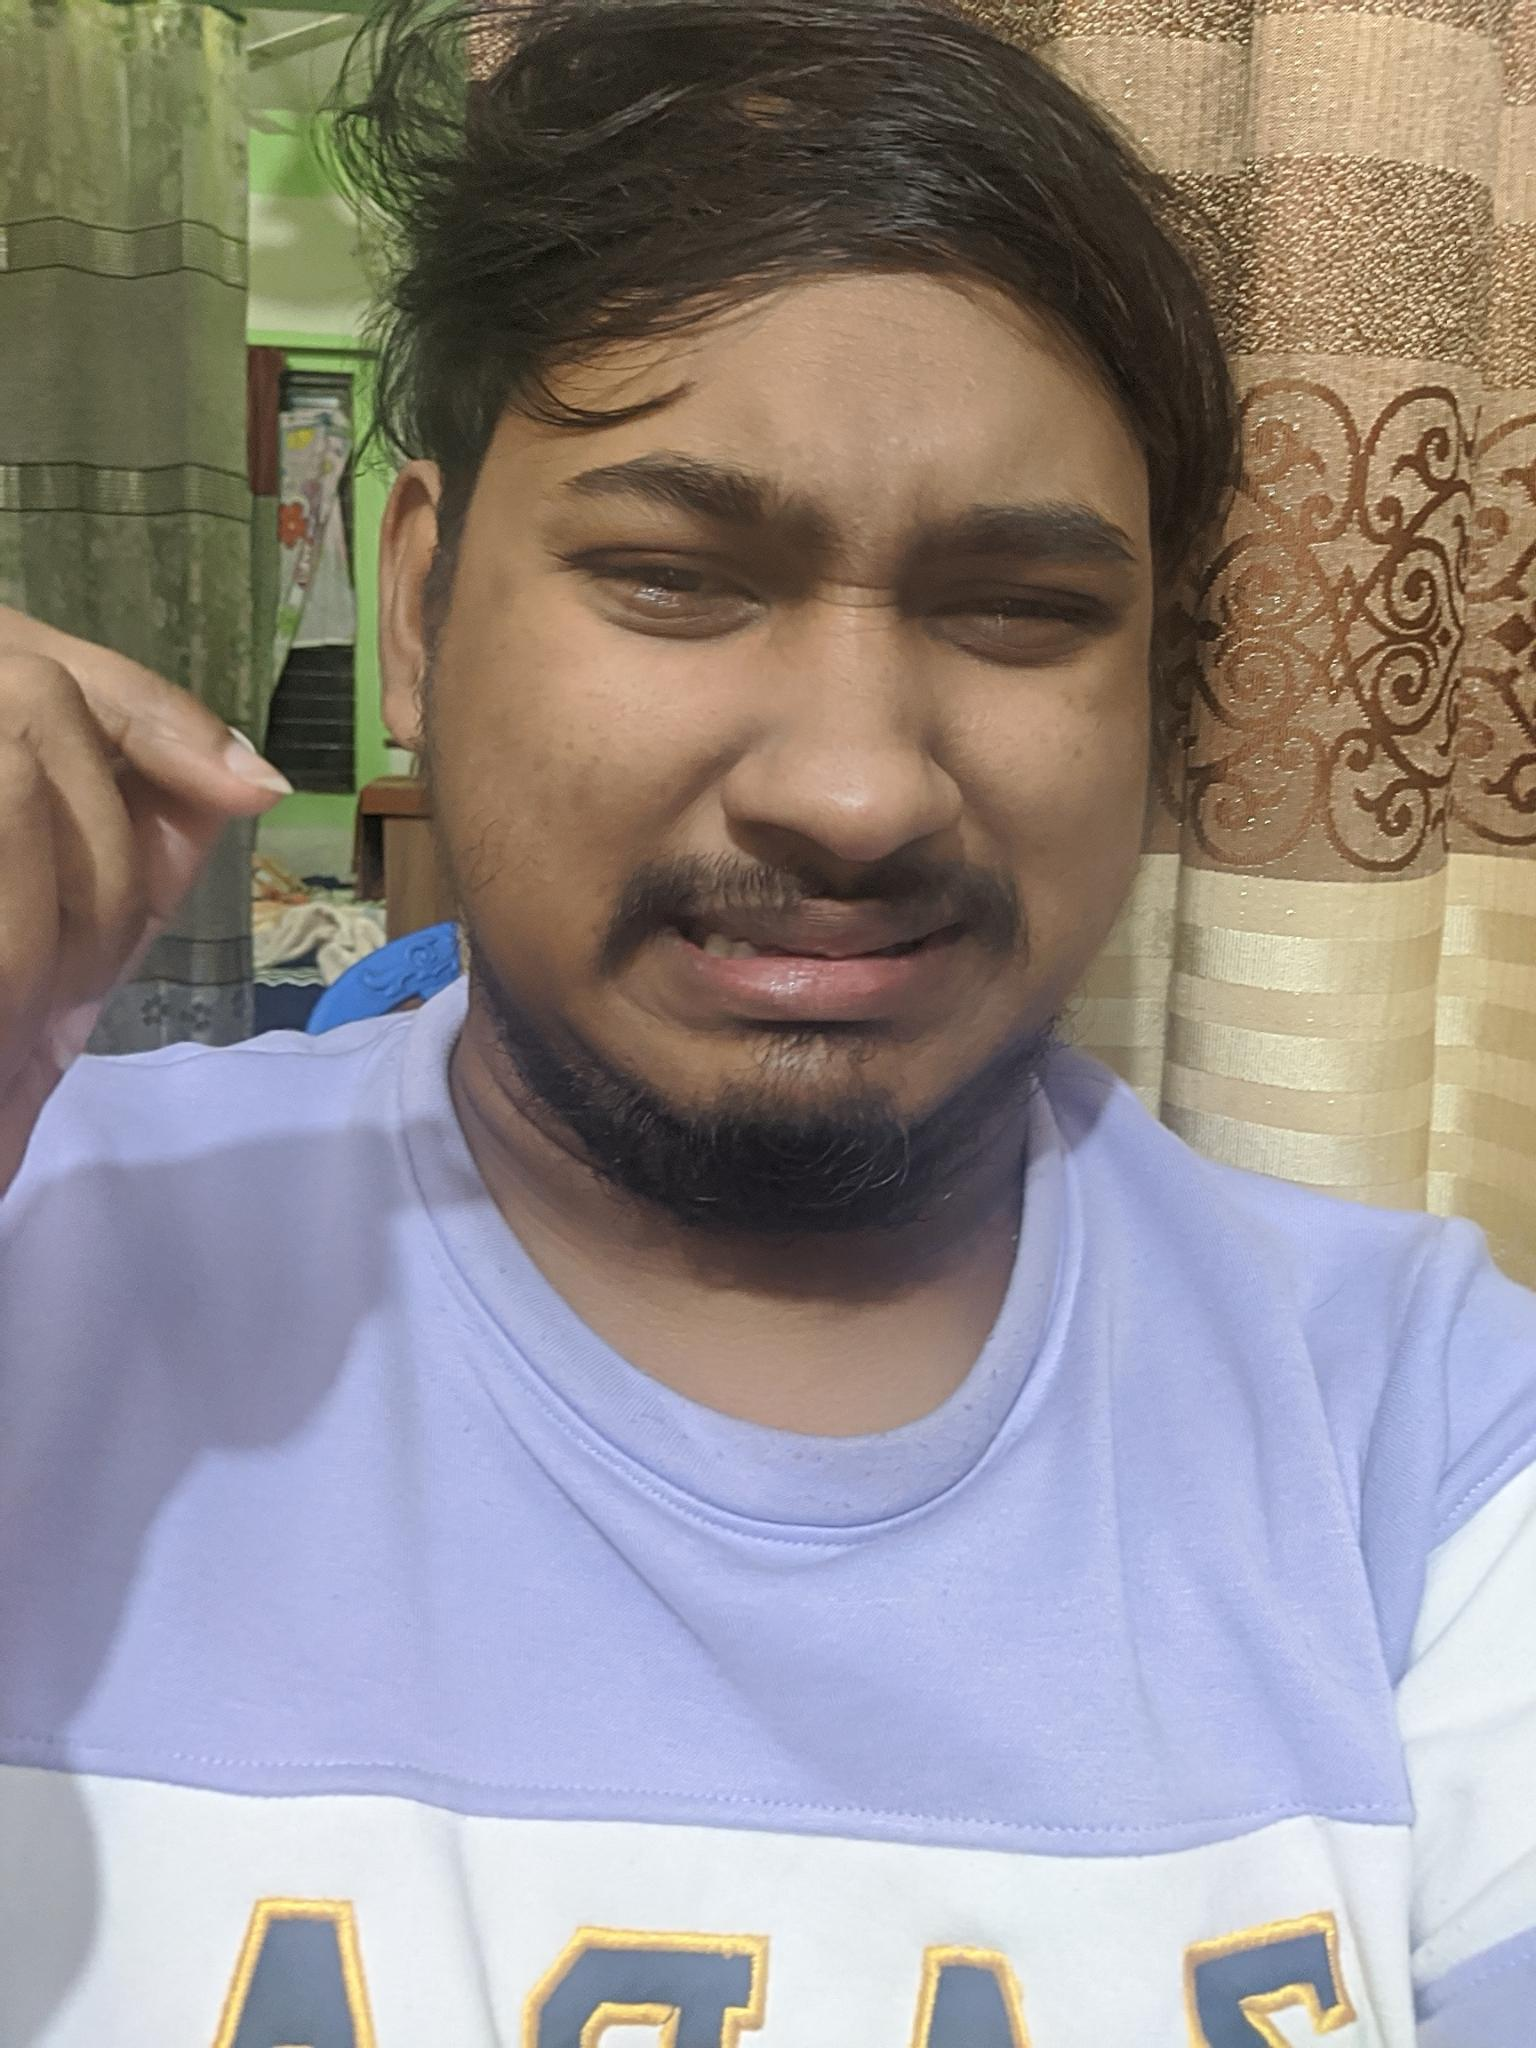Disgust: (490, 352, 1165, 1193)
